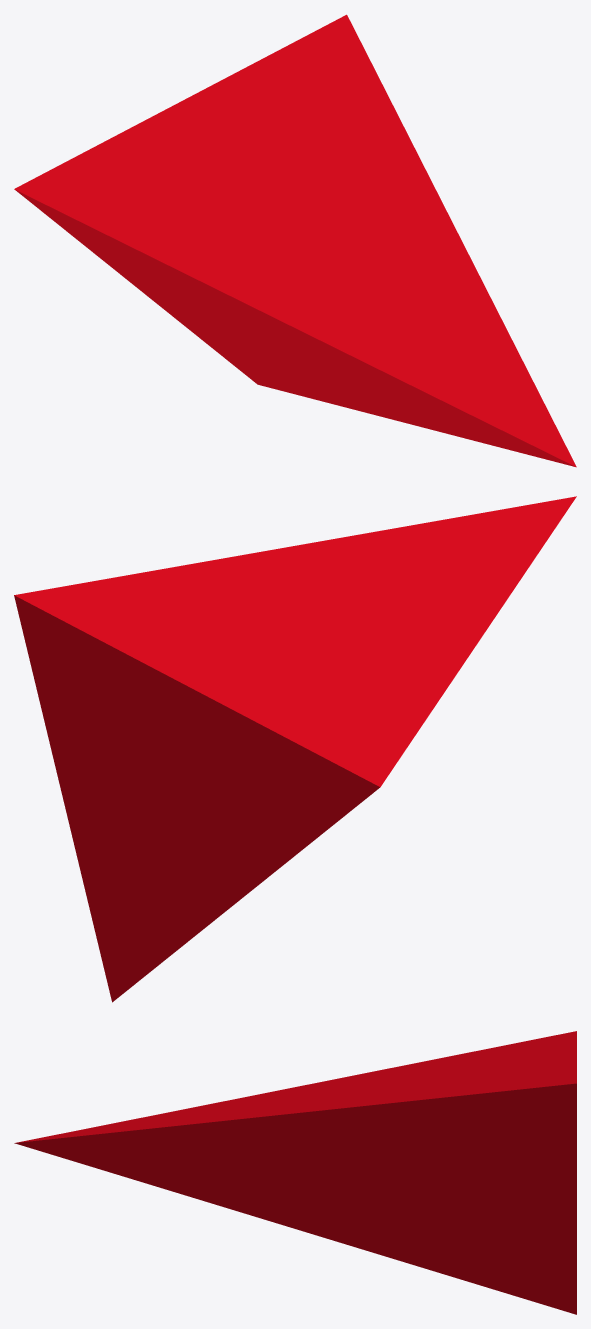
Rendered from shipCanopy_tracker.fbx.
3 renders of one model, top to bottom at view 1: azimuth 30°, elevation 25°; view 2: azimuth 150°, elevation 25°; view 3: azimuth 270°, elevation 25°, orthographic. The views are drawn at different scales.
Visible parts, largest first — view 1: Cone; view 2: Cone; view 3: Cone.
Part boxes in pixels (x1=…): Cone: x1=14, y1=14, x2=576, y2=467; Cone: x1=14, y1=496, x2=576, y2=1002; Cone: x1=14, y1=1031, x2=576, y2=1314.
Size of the model in its own units: 3.89 by 3.89 by 7.51.
